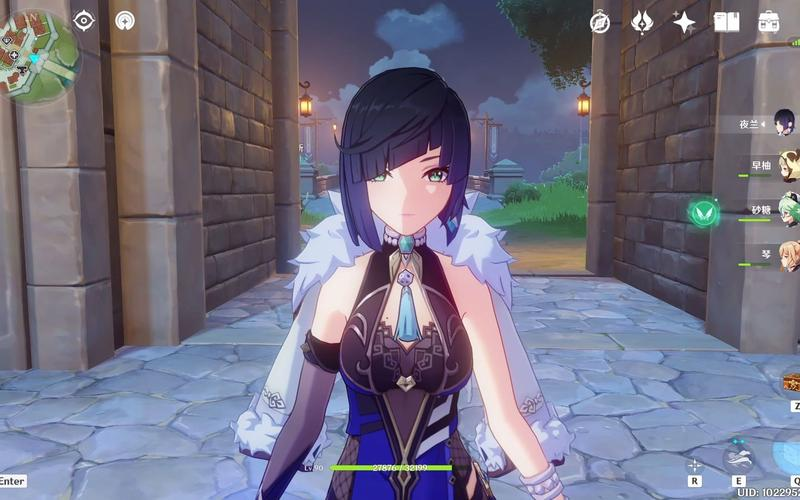夜兰: (254, 65, 567, 500)
